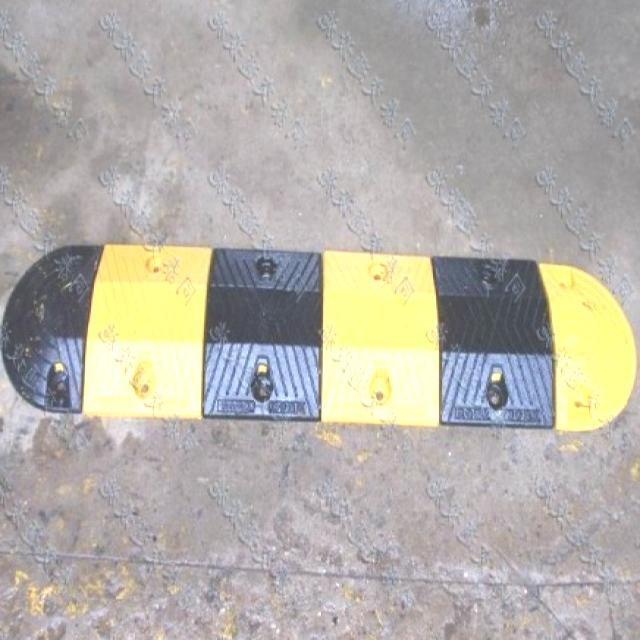Speed Bump: (0, 244, 636, 432)
